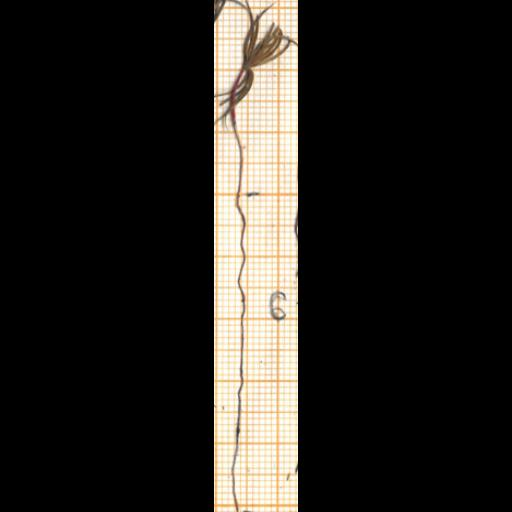flowerPinus: (233, 4, 297, 105)
rootPinus: (232, 201, 246, 511)
stemPinus: (232, 71, 242, 202)
